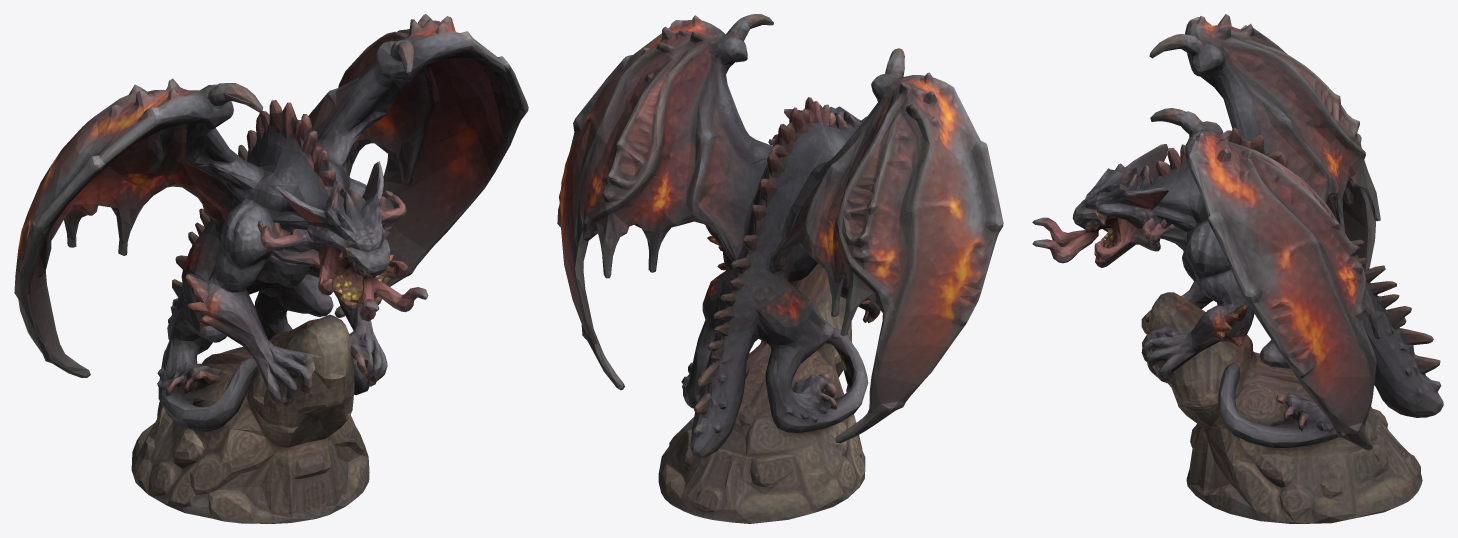
The model's file is cinderGargoyle.glb.
3 views of the same model, side by side, from view 1: azimuth 30°, elevation 25°; view 2: azimuth 150°, elevation 25°; view 3: azimuth 270°, elevation 25° (orthographic). The views are drawn at different scales.
Parts seen in each view (by area): view 1: world; view 2: world; view 3: world.
Boxes of the visible parts, left/top/right/bottom form: world: left=14, top=14, right=528, bottom=523; world: left=557, top=14, right=1003, bottom=523; world: left=1032, top=14, right=1443, bottom=523.
Size of the model in its own units: 1 by 0.8934 by 0.815.
1 material, 1 textured.
